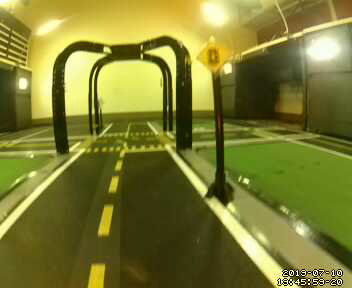Traffic light sign: (195, 40, 234, 73)
